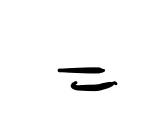eqv: (54, 64, 119, 94)
